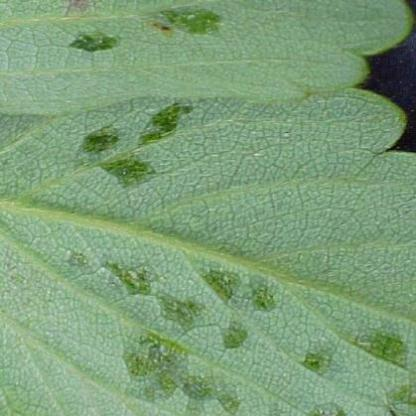Strawberry_Angular_LeafSpot: (50, 0, 415, 415)
